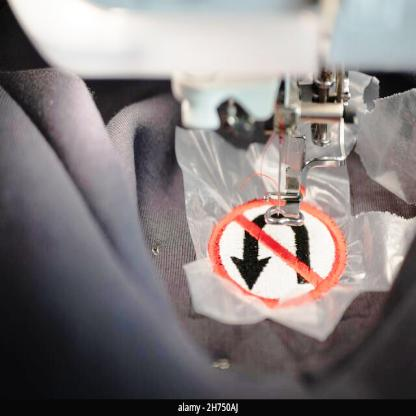No U-turn: (209, 191, 346, 311)
